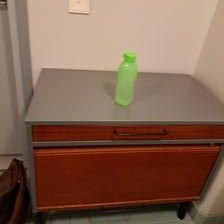bottle: (112, 50, 139, 109)
